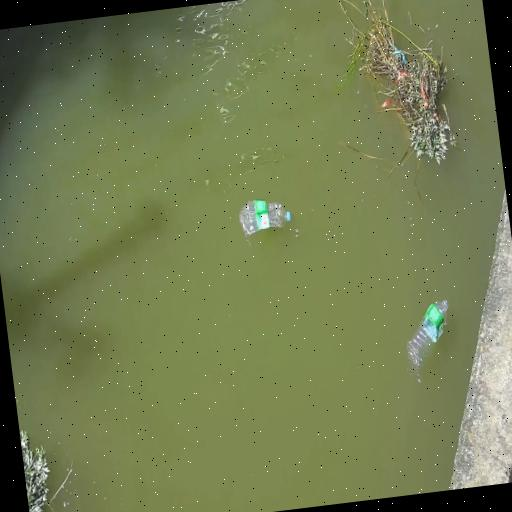plastic: (408, 300, 448, 380), (239, 200, 291, 237)
twig: (344, 0, 457, 165), (20, 431, 49, 512)
